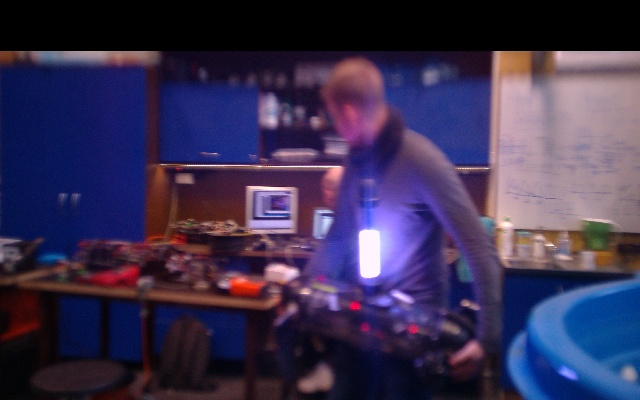white: (357, 229, 381, 280)
